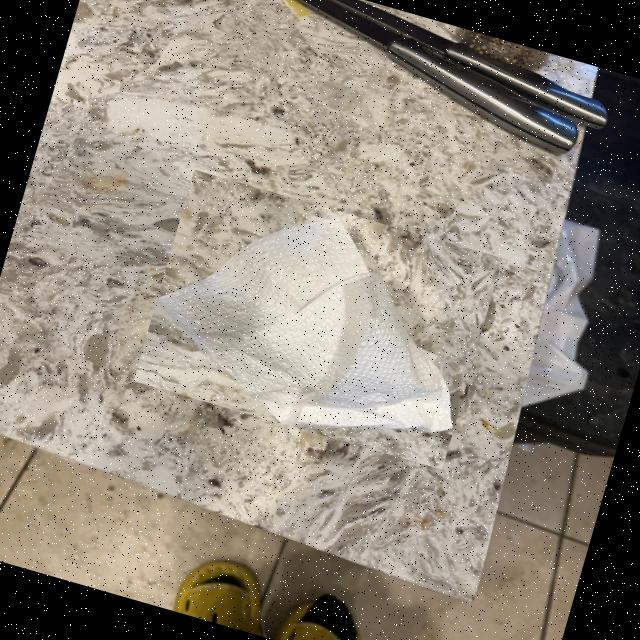Tissues: (156, 211, 453, 432)
